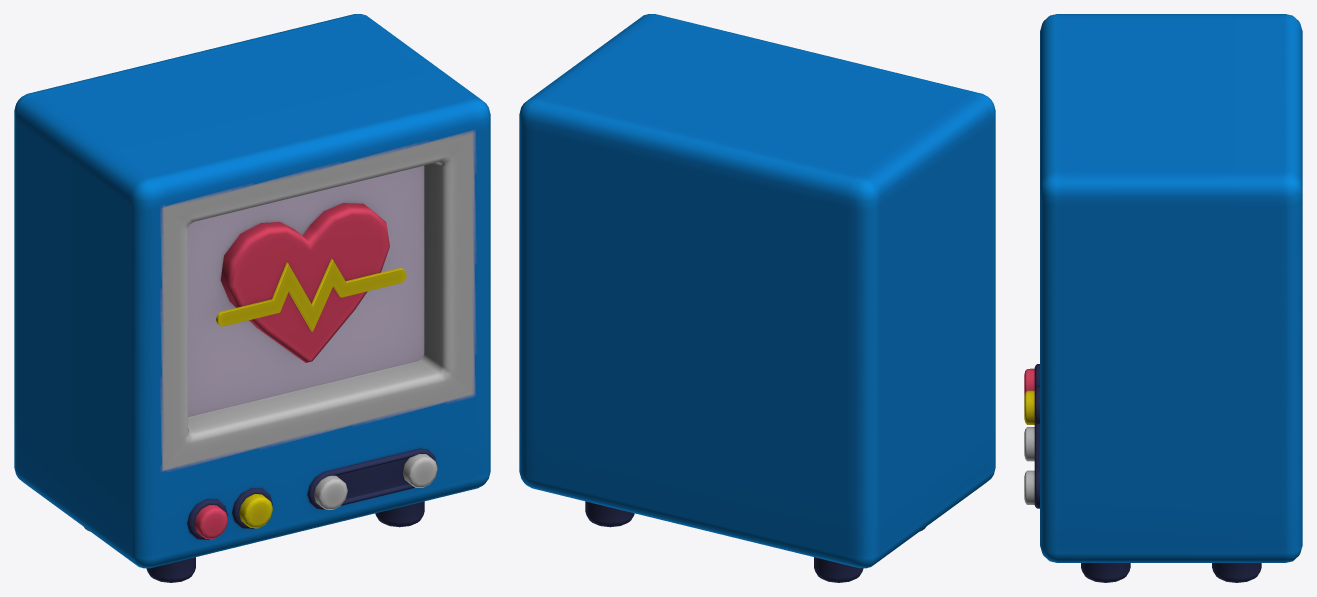
File: heartratemeter_blue.fbx
3 renders of one model, left to right at view 1: azimuth 30°, elevation 25°; view 2: azimuth 150°, elevation 25°; view 3: azimuth 270°, elevation 25°, orthographic.
Parts seen in each view (by area): view 1: polySurface16.002; view 2: polySurface16.002; view 3: polySurface16.002.
Part boxes in pixels (x1,y1,x2,y2): polySurface16.002: [14, 14, 490, 582]; polySurface16.002: [519, 14, 995, 582]; polySurface16.002: [1024, 14, 1302, 582].
Bounding box in the file's own units: 0.8798 × 1 × 0.5959.
